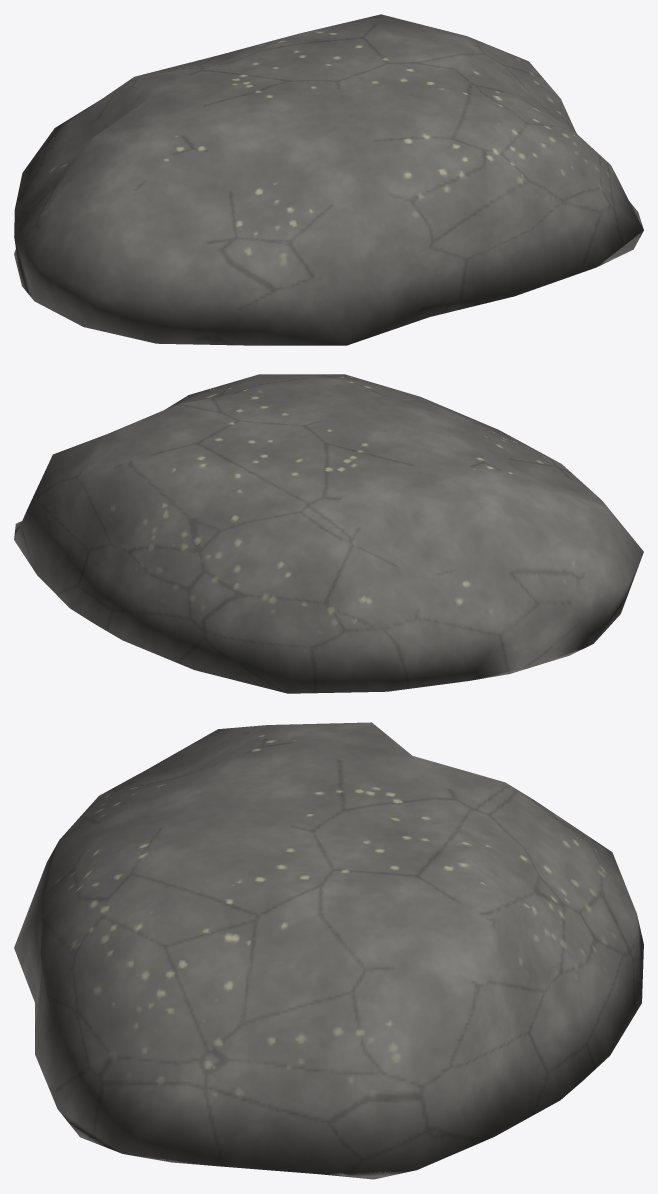
File: 물범바위.fbx
The picture shows the model from 3 angles, top to bottom: view 1: azimuth 30°, elevation 25°; view 2: azimuth 150°, elevation 25°; view 3: azimuth 270°, elevation 25°; orthographic projection. The views are drawn at different scales.
Visible parts, largest first — view 1: 물범바위; view 2: 물범바위; view 3: 물범바위.
Part boxes in pixels (left/top/right/bottom): 물범바위: left=14, top=14, right=643, bottom=345; 물범바위: left=14, top=374, right=643, bottom=693; 물범바위: left=14, top=722, right=643, bottom=1179.
Bounding box in the file's own units: 1455 × 354 × 1091.
Materials: 1 (1 with a texture image).
